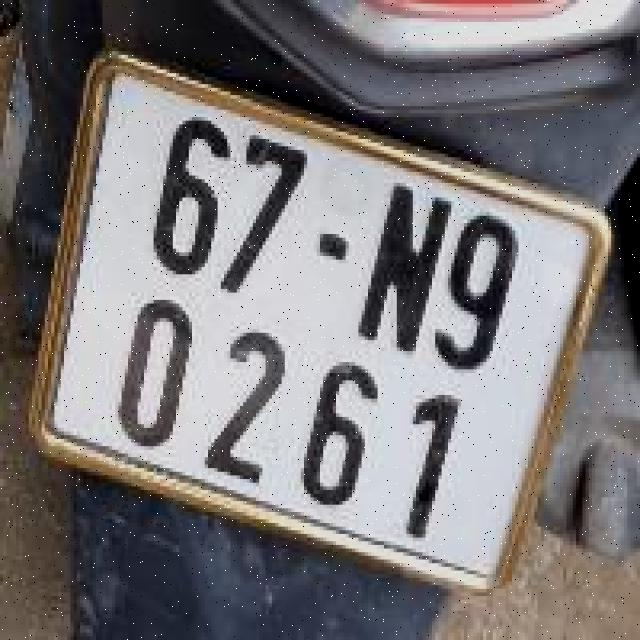0: (106, 282, 211, 465)
1: (374, 376, 483, 558)
2: (190, 312, 308, 499)
6: (137, 97, 242, 293), (287, 338, 394, 527)
7: (210, 117, 322, 318)
9: (419, 196, 535, 392)
N: (344, 161, 463, 365)
